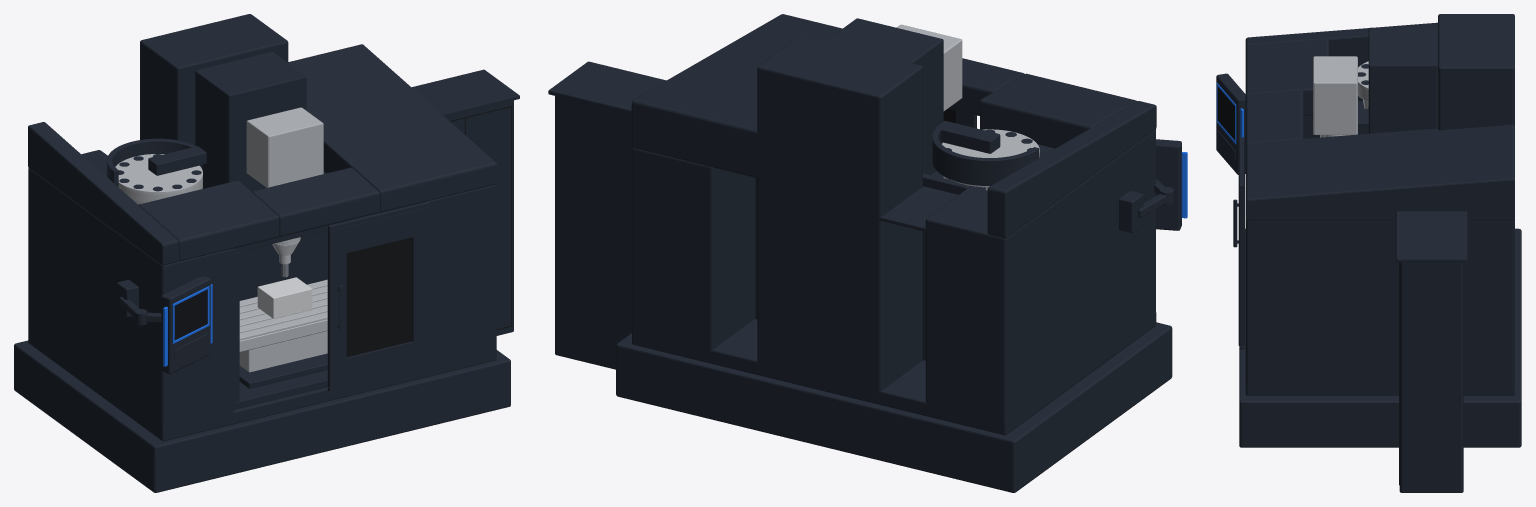
File: cnc_vmc.glb
3 views of the same model, side by side, from view 1: azimuth 30°, elevation 25°; view 2: azimuth 150°, elevation 25°; view 3: azimuth 270°, elevation 25° (orthographic). The views are drawn at different scales.
Parts seen in each view (by area): view 1: body_merged, door_merged, electrical_merged, spindle_static_merged, panel_merged, table_merged, magazine_rotor_merged, magazine_static_merged, workpiece_block; view 2: body_merged, electrical_merged, magazine_static_merged, panel_merged, spindle_static_merged, magazine_rotor_merged; view 3: body_merged, electrical_merged, spindle_static_merged, panel_merged, door_merged, magazine_rotor_merged.
Boxes of the visible parts, left/top/right/bottom form: body_merged: left=14, top=14, right=510, bottom=492; door_merged: left=327, top=201, right=430, bottom=391; electrical_merged: left=412, top=69, right=519, bottom=335; spindle_static_merged: left=246, top=107, right=323, bottom=255; panel_merged: left=117, top=276, right=212, bottom=373; table_merged: left=239, top=279, right=327, bottom=372; magazine_rotor_merged: left=115, top=154, right=202, bottom=204; magazine_static_merged: left=107, top=138, right=206, bottom=186; workpiece_block: left=257, top=277, right=312, bottom=318; body_merged: left=616, top=14, right=1172, bottom=492; electrical_merged: left=548, top=61, right=666, bottom=369; magazine_static_merged: left=932, top=121, right=1039, bottom=185; panel_merged: left=1119, top=139, right=1187, bottom=233; spindle_static_merged: left=896, top=24, right=962, bottom=111; magazine_rotor_merged: left=942, top=129, right=1039, bottom=190; body_merged: left=1239, top=14, right=1521, bottom=447; electrical_merged: left=1395, top=211, right=1467, bottom=492; spindle_static_merged: left=1313, top=56, right=1357, bottom=137; panel_merged: left=1216, top=73, right=1245, bottom=174; door_merged: left=1233, top=137, right=1244, bottom=349; magazine_rotor_merged: left=1358, top=61, right=1368, bottom=108.
Bounding box in the file's own units: 4.07 × 2.8 × 2.38.
